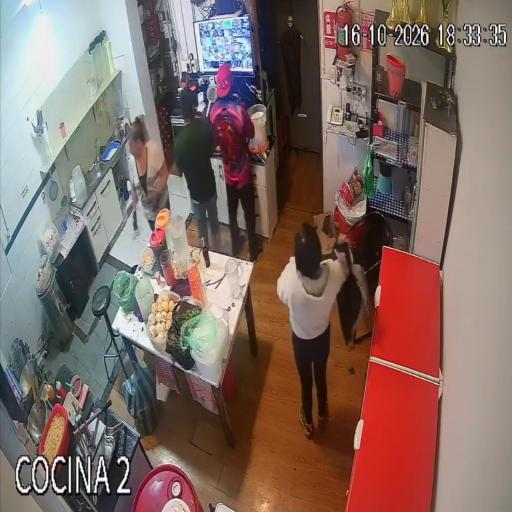Balde: (248, 104, 268, 153)
Cernidor: (206, 85, 217, 118)
Envase Llajua: (70, 375, 82, 399)
Jarra1: (150, 228, 167, 270)
Jarra2: (156, 209, 172, 247)
Jarra3: (170, 215, 189, 265), (134, 277, 154, 321)
Jarra4: (225, 258, 243, 299)
Jarra5: (69, 165, 87, 205)
Microondas: (170, 109, 186, 146)
Persona1: (210, 64, 262, 261)
Persona2: (129, 116, 169, 229)
Persona3: (175, 89, 218, 239)
Persona4: (277, 223, 351, 439)
Taper: (146, 290, 181, 353)
Taper2: (181, 296, 205, 312)
Taper3: (139, 247, 154, 275)
Taper4: (190, 309, 230, 386)
